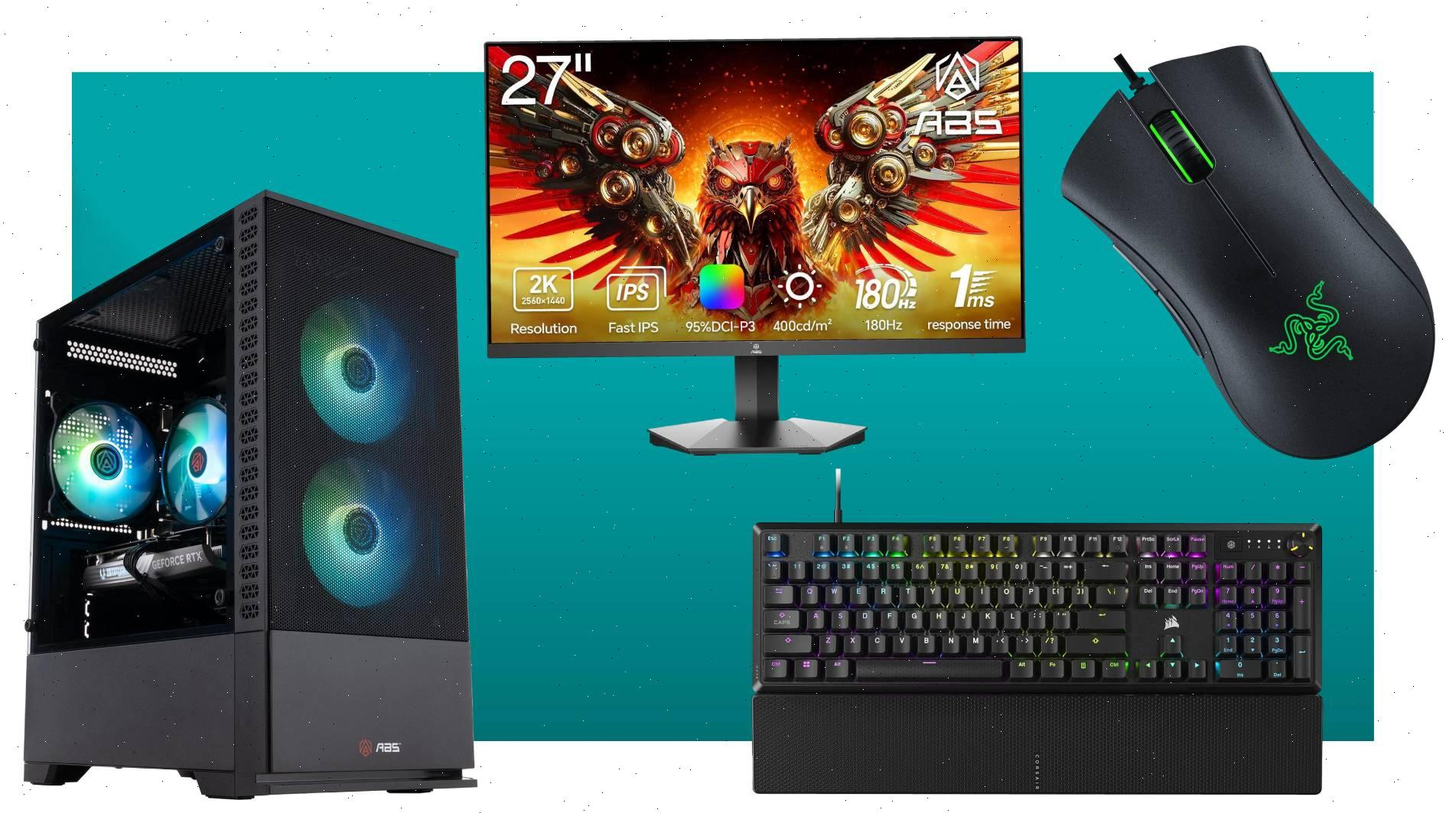keyboard: (719, 493, 1338, 811)
monitor: (453, 16, 1069, 383)
mouse: (1051, 28, 1446, 465)
pc: (15, 172, 497, 813)
